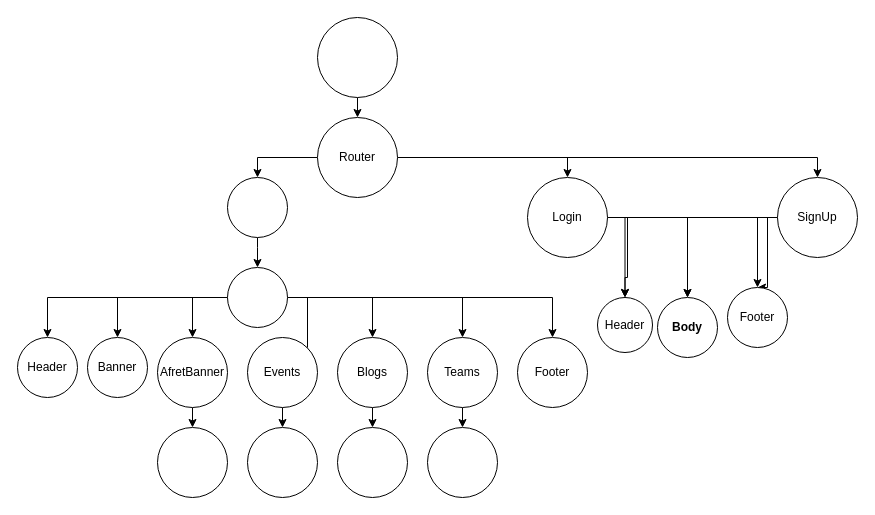
Image size: 875x515. Some labels were removed from this diagram. The shapes that lost their labels are listed below. From the top down, each one's centre as x and y in pixels, then its label:
At pixel 357 57: "App".
At pixel 257 207: "Home".
At pixel 257 297: "Index".
At pixel 192 462: "AB".
At pixel 282 462: "Event Item".
At pixel 372 462: "Blog Item".
At pixel 462 462: "Team Item".
